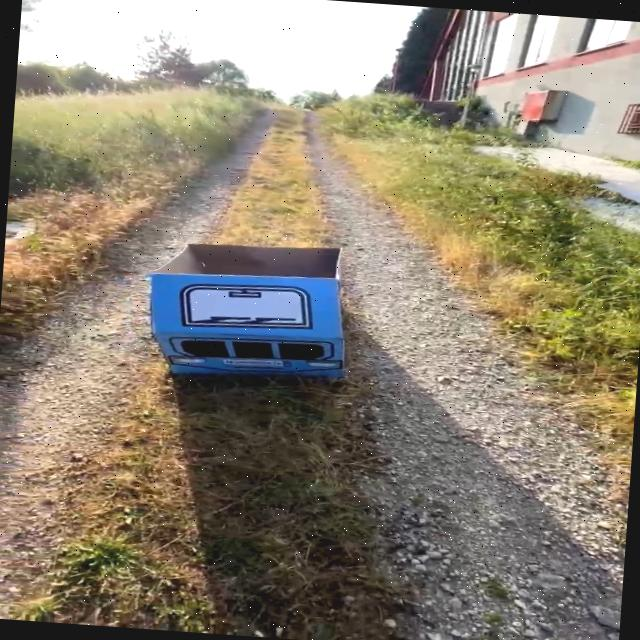blue_car: (111, 212, 406, 424)
